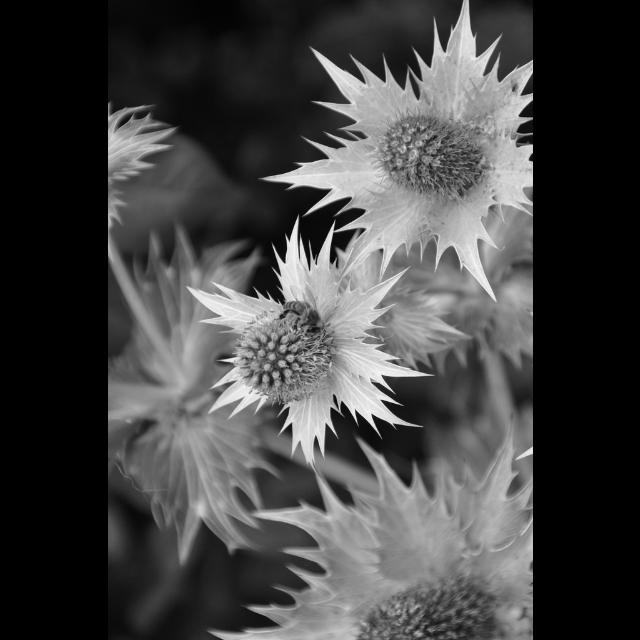Flower: (265, 0, 533, 306), (209, 436, 533, 640), (200, 232, 414, 448)
